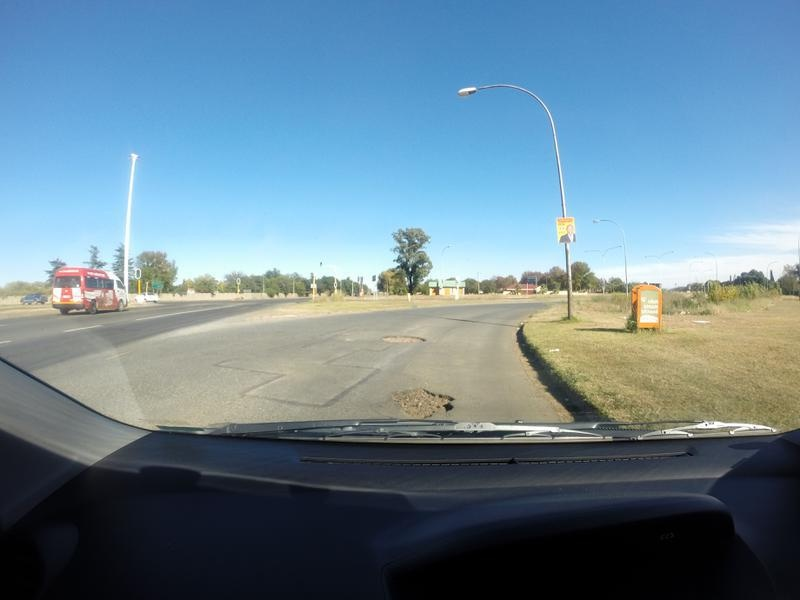pothole: (367, 380, 467, 418), (376, 330, 429, 349)
